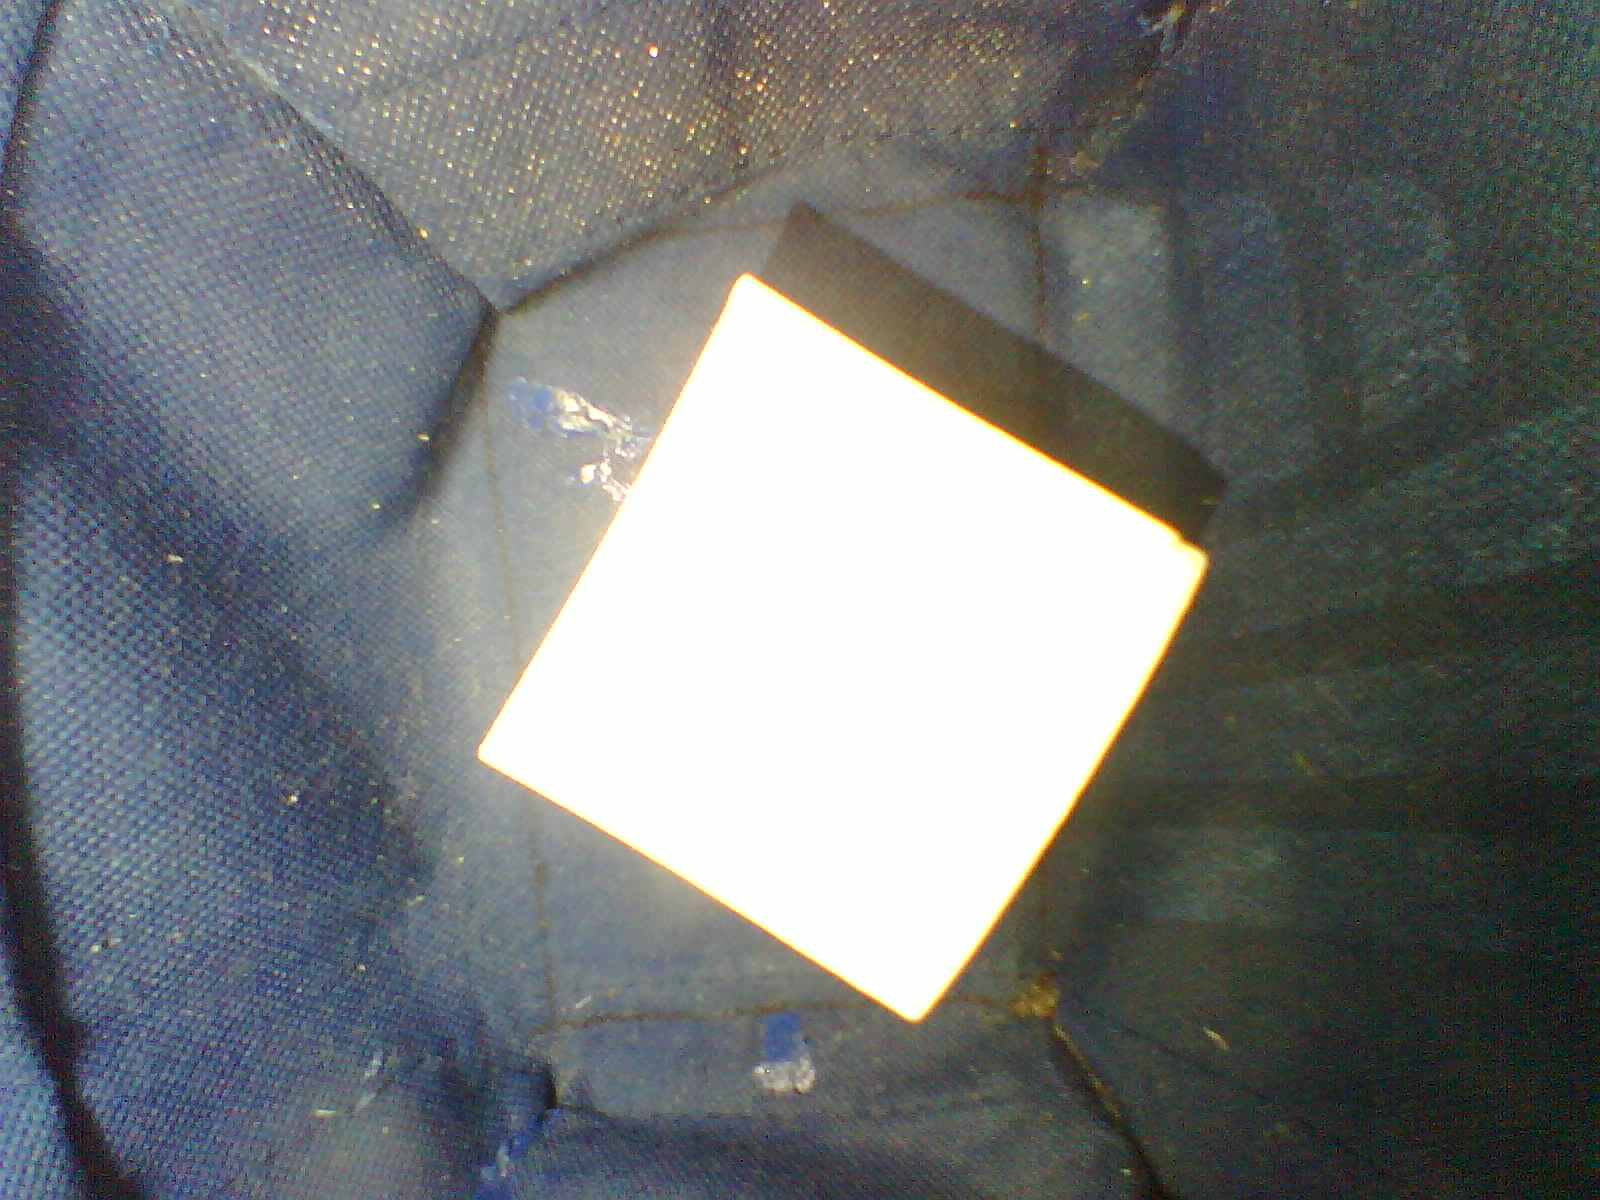cube-hard: (472, 263, 1223, 1064)
